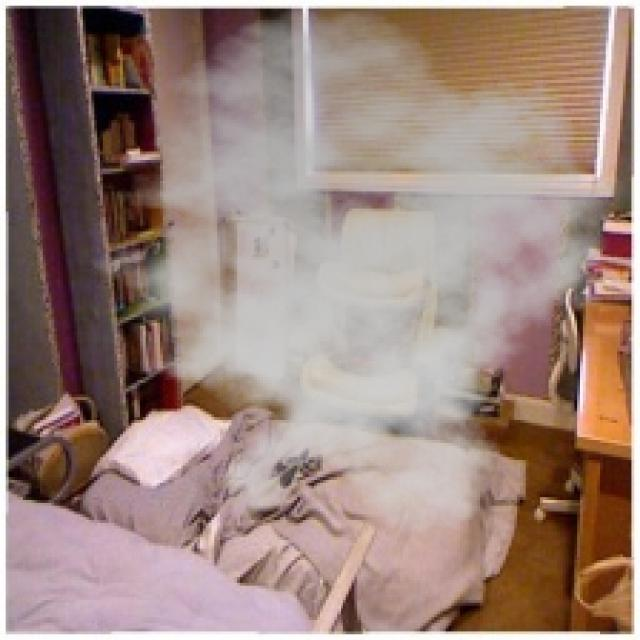smoke: (69, 9, 637, 537)
